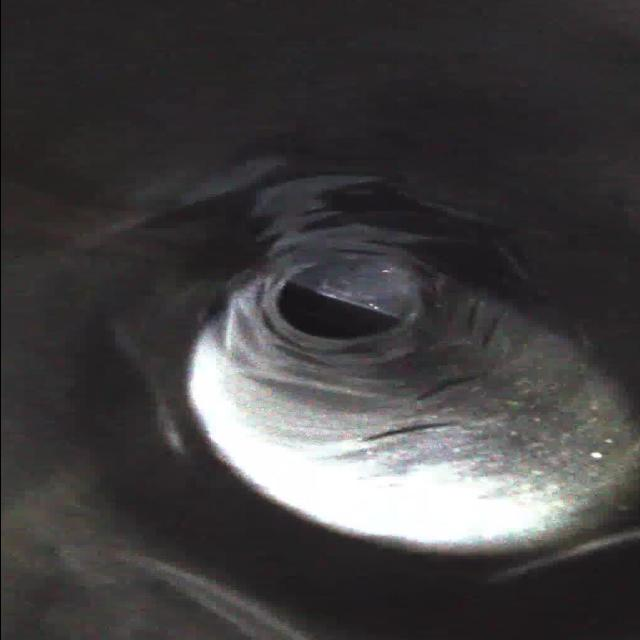crack: (290, 204, 418, 252), (346, 410, 474, 452), (203, 255, 259, 348), (389, 363, 494, 402)
